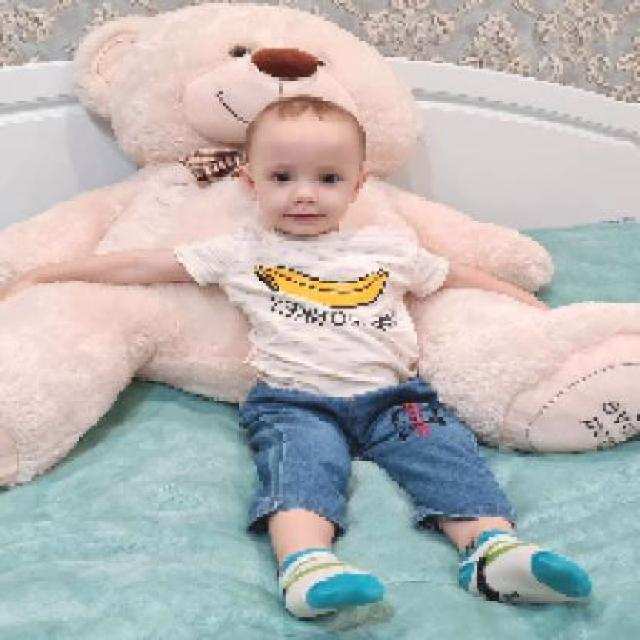child: (2, 91, 595, 620)
